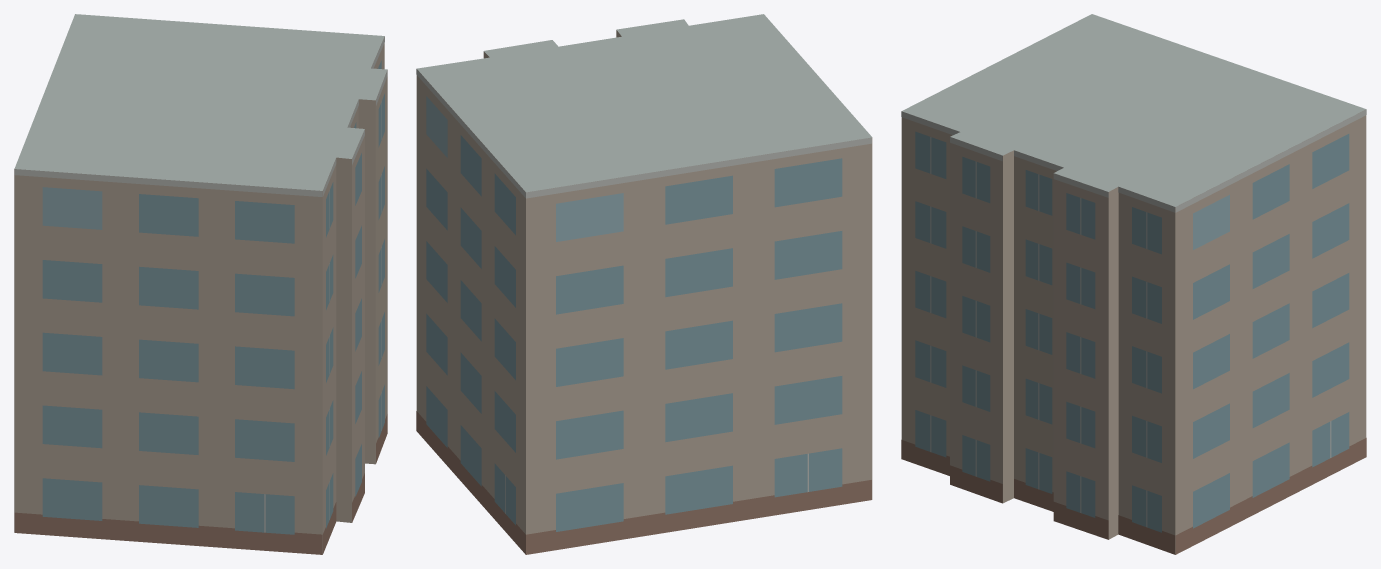
File: survey-upis-32705500.glb
3 views of the same model, side by side, from view 1: azimuth 30°, elevation 25°; view 2: azimuth 150°, elevation 25°; view 3: azimuth 270°, elevation 25° (orthographic). The views are drawn at different scales.
Visible parts, largest first — view 1: survey-upis-32705500.tmp; view 2: survey-upis-32705500.tmp; view 3: survey-upis-32705500.tmp.
Part boxes in pixels (x1,y1,x2,y2): survey-upis-32705500.tmp: [14, 14, 387, 554]; survey-upis-32705500.tmp: [416, 14, 872, 554]; survey-upis-32705500.tmp: [901, 14, 1366, 554].
Size of the model in its own units: 17.14 by 14.4 by 17.45.
